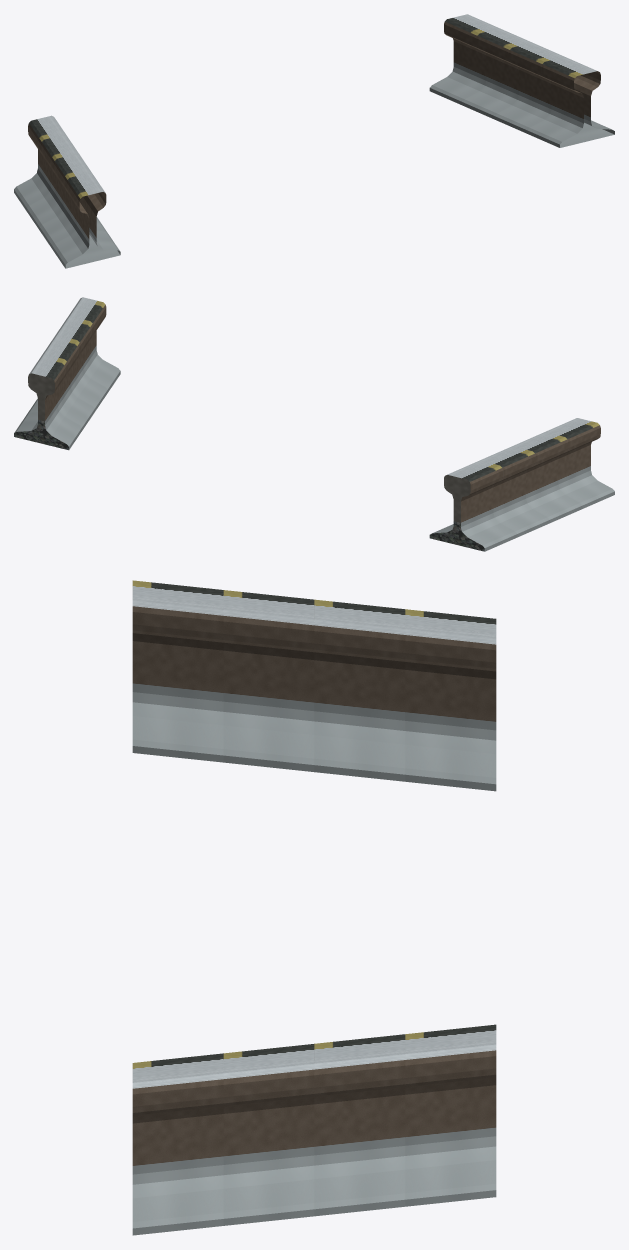
Rendered from outer_guard_endpoint.obj.
3 renders of one model, top to bottom at view 1: azimuth 30°, elevation 25°; view 2: azimuth 150°, elevation 25°; view 3: azimuth 270°, elevation 25°, orthographic. The views are drawn at different scales.
Visible parts, largest first — view 1: terminal_right, terminal_left; view 2: terminal_left, terminal_right; view 3: terminal_left, terminal_right.
Part boxes in pixels (x1,y1,x2,y2): terminal_right: [429, 14, 614, 147]; terminal_left: [14, 115, 120, 268]; terminal_left: [429, 418, 614, 551]; terminal_right: [14, 297, 120, 450]; terminal_left: [132, 580, 496, 791]; terminal_right: [132, 1024, 496, 1235].
Size of the model in its own units: 1.4 by 0.1649 by 0.4.
